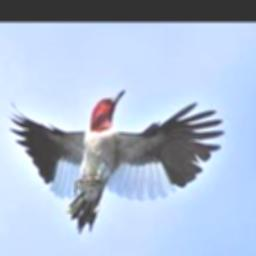Woodpecker: (8, 90, 223, 232)
